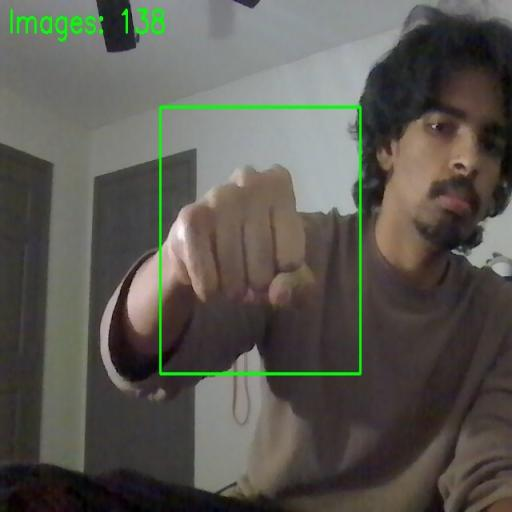backspace: (161, 107, 360, 374)
